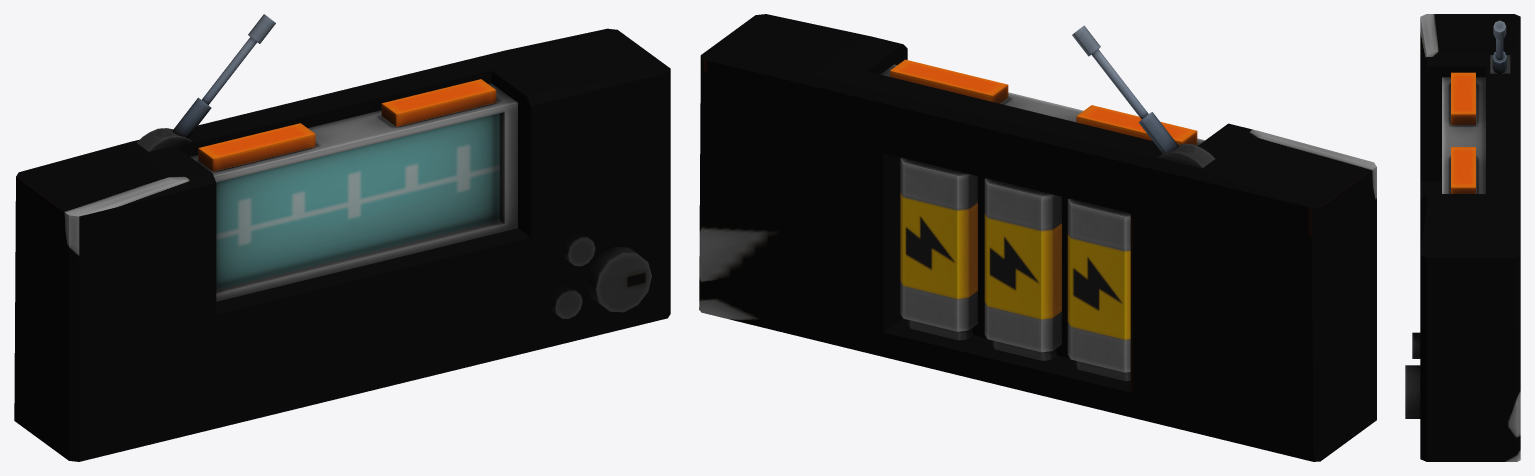
File: radio_portable_prev.fbx
3 views of the same model, side by side, from view 1: azimuth 30°, elevation 25°; view 2: azimuth 150°, elevation 25°; view 3: azimuth 270°, elevation 25° (orthographic). The views are drawn at different scales.
Visible parts, largest first — view 1: char_portable_radio; view 2: char_portable_radio; view 3: char_portable_radio.
Boxes of the visible parts, left/top/right/bottom form: char_portable_radio: left=14, top=14, right=670, bottom=461; char_portable_radio: left=699, top=14, right=1376, bottom=461; char_portable_radio: left=1405, top=14, right=1520, bottom=461.
Size of the model in its own units: 4.99 by 2.82 by 1.
